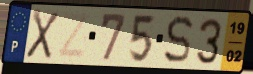3: (195, 16, 224, 66)
5: (126, 13, 158, 64)
7: (100, 12, 128, 63)
S: (162, 14, 195, 66)
X: (24, 7, 61, 61)
Z: (57, 11, 91, 60)
